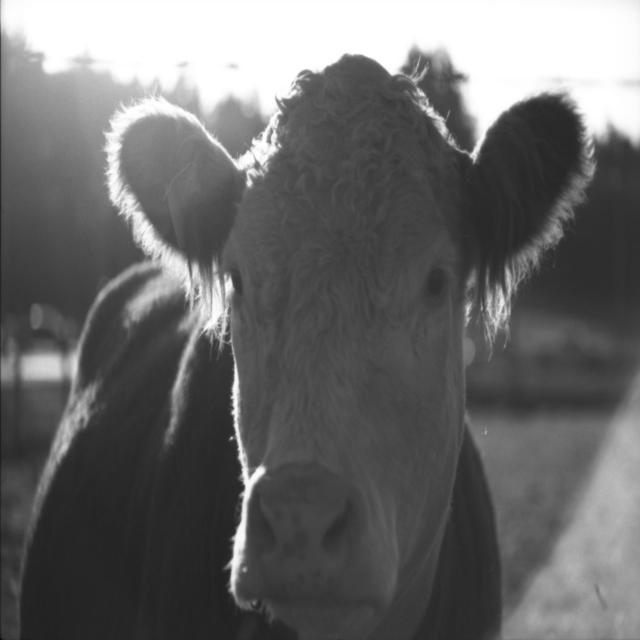cow: (20, 56, 592, 638)
